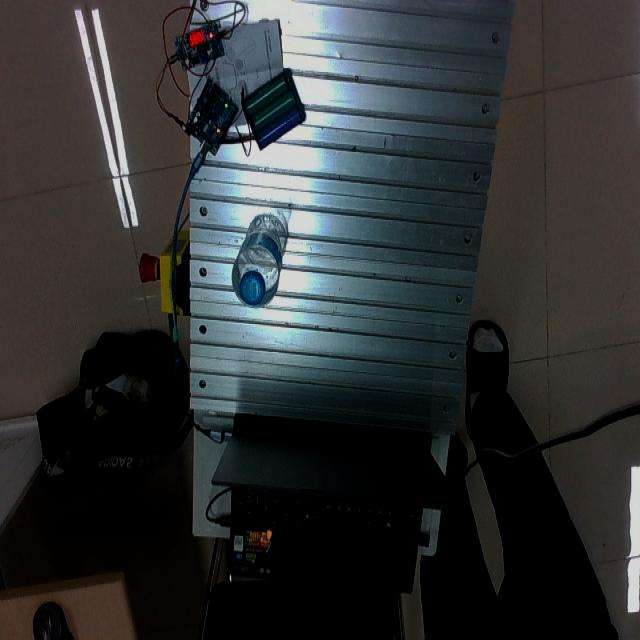lavie: (232, 212, 286, 308)
